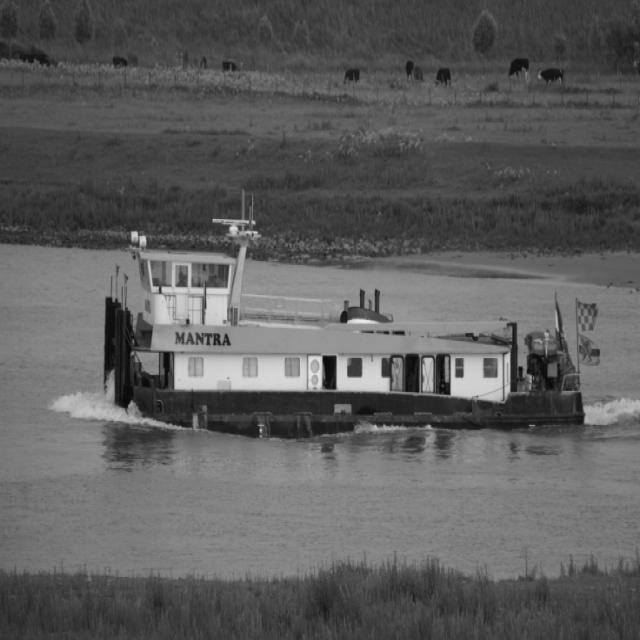tugboat: (102, 217, 593, 443)
